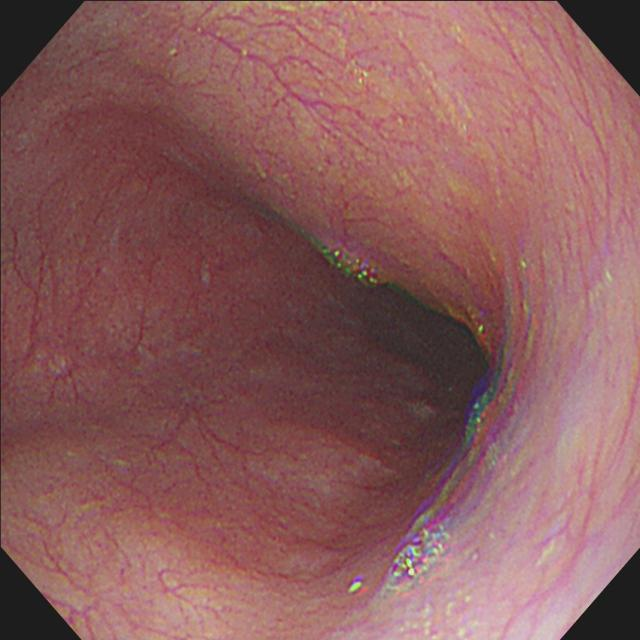T: (383, 523, 455, 588), (313, 238, 388, 290)
